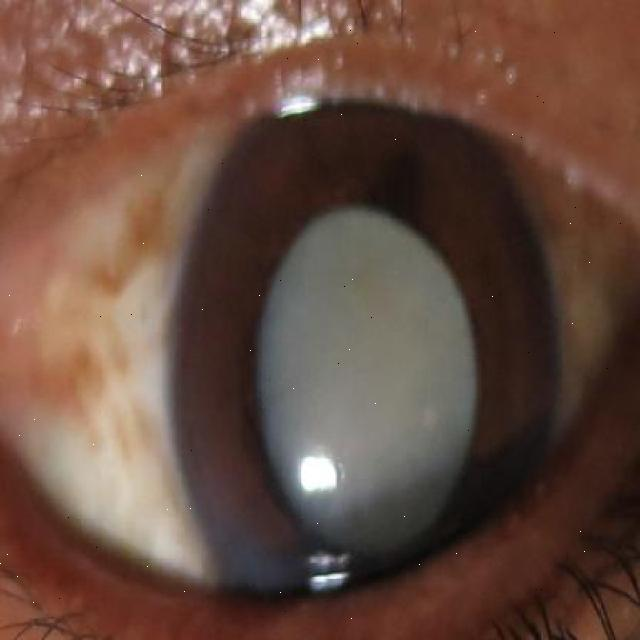Cataract: (173, 98, 562, 630)
